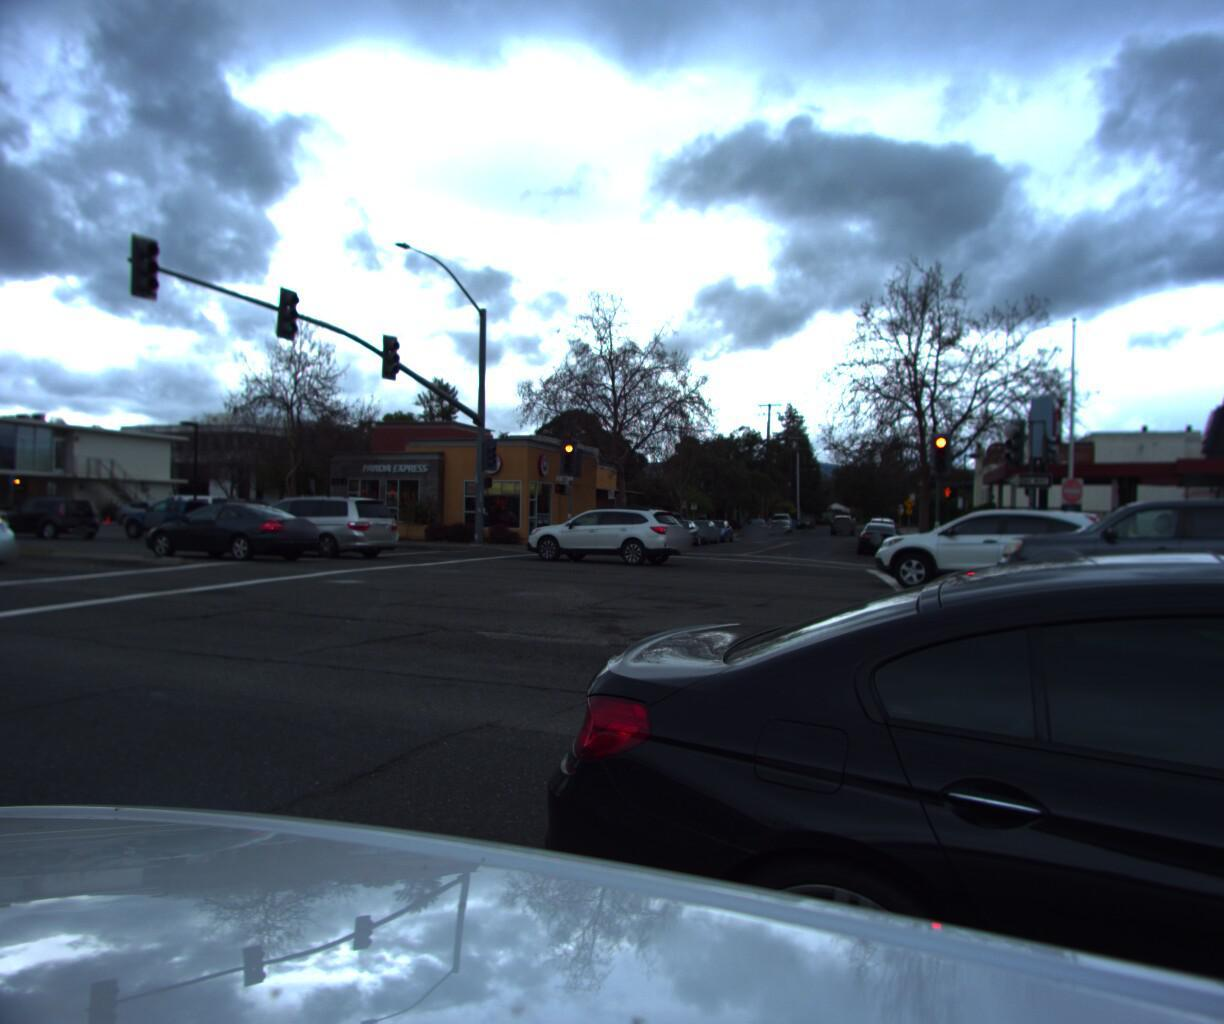car: (542, 446, 1224, 1024), (972, 489, 1224, 636), (862, 496, 1113, 596), (221, 497, 416, 561), (142, 504, 339, 567), (523, 502, 698, 569), (113, 500, 253, 546), (0, 500, 110, 544), (0, 488, 32, 573), (0, 500, 39, 554), (848, 518, 900, 554), (651, 517, 703, 550), (692, 521, 734, 543), (736, 518, 771, 536), (768, 511, 796, 531), (829, 516, 853, 537), (0, 483, 1, 537)
